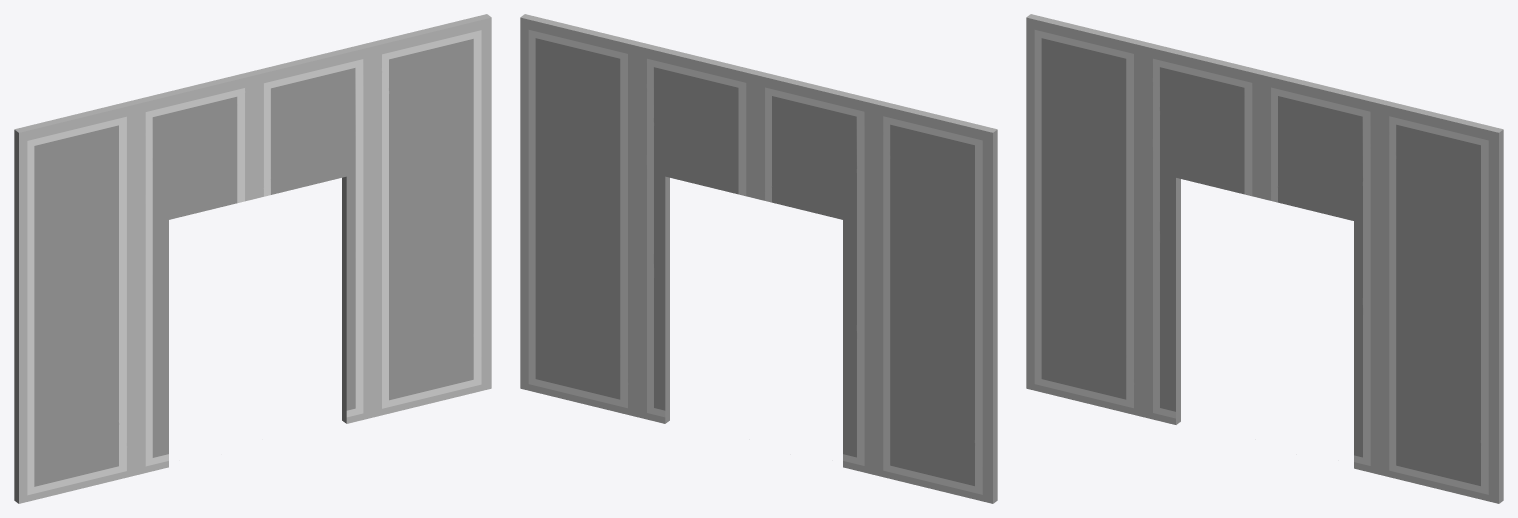
Rendered from Wall_Gray_Door.fbx.
3 renders of one model, left to right at view 1: azimuth 30°, elevation 25°; view 2: azimuth 150°, elevation 25°; view 3: azimuth 330°, elevation 25°, orthographic.
Visible parts, largest first — view 1: Wall_Gray_Door; view 2: Wall_Gray_Door; view 3: Wall_Gray_Door.
Boxes of the visible parts, x1,y1,x2,y2 form: Wall_Gray_Door: (14,14,491,503); Wall_Gray_Door: (520,14,997,503); Wall_Gray_Door: (1026,14,1503,503).
Size of the model in its own units: 400 by 300 by 7.
